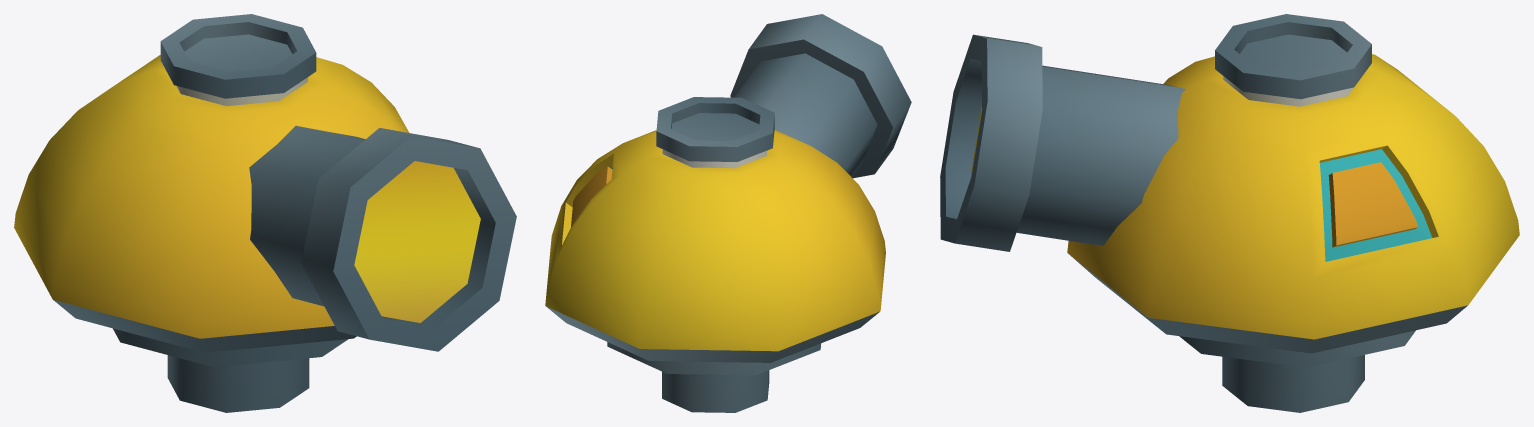
Rendered from spare_tank_head.fbx.
3 renders of one model, left to right at view 1: azimuth 30°, elevation 25°; view 2: azimuth 150°, elevation 25°; view 3: azimuth 270°, elevation 25°, orthographic. The views are drawn at different scales.
Visible parts, largest first — view 1: spare_tank_head; view 2: spare_tank_head; view 3: spare_tank_head.
Part boxes in pixels (box(x1,y1,x2,y2)): spare_tank_head: box(14, 14, 516, 412); spare_tank_head: box(545, 14, 911, 412); spare_tank_head: box(940, 14, 1519, 412).
Bounding box in the file's own units: 182 × 157 × 233.
